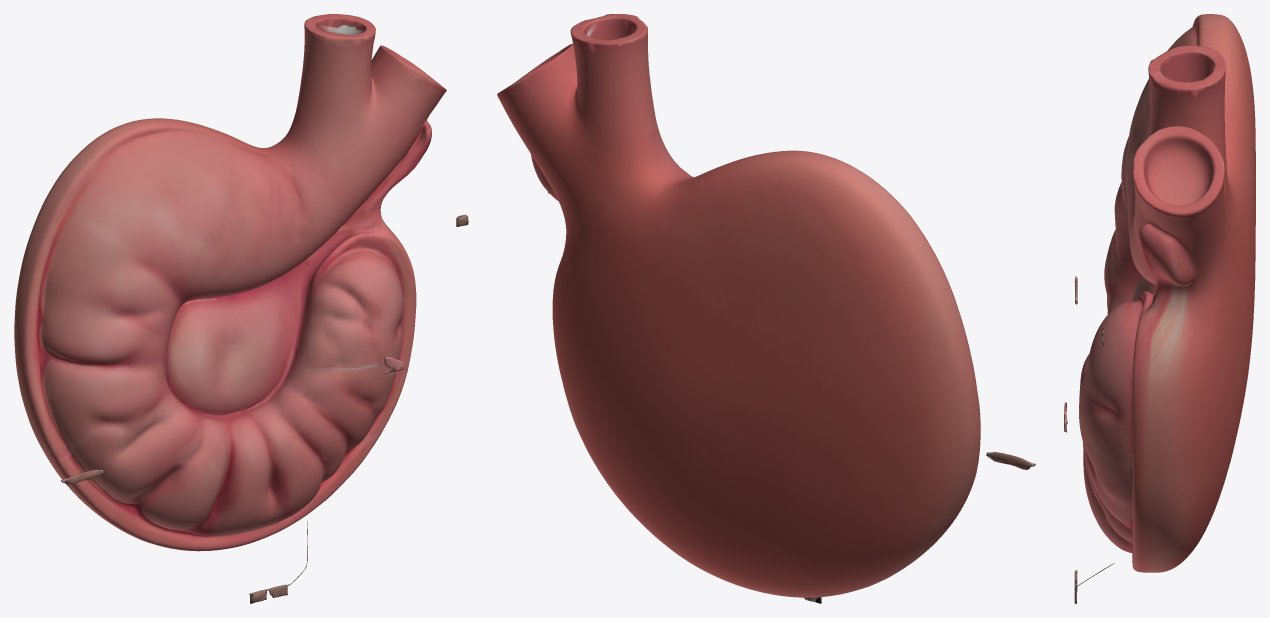
The model's file is cat_stomach.glb.
3 renders of one model, left to right at view 1: azimuth 30°, elevation 25°; view 2: azimuth 150°, elevation 25°; view 3: azimuth 270°, elevation 25°, orthographic. The views are drawn at different scales.
Visible parts, largest first — view 1: model; view 2: model; view 3: model.
Part boxes in pixels (x1,y1,x2,y2): model: [14, 14, 468, 603]; model: [497, 14, 1035, 603]; model: [1064, 14, 1255, 603].
Bounding box in the file's own units: 1.61 × 1.86 × 0.5387.
1 material, 1 textured.
